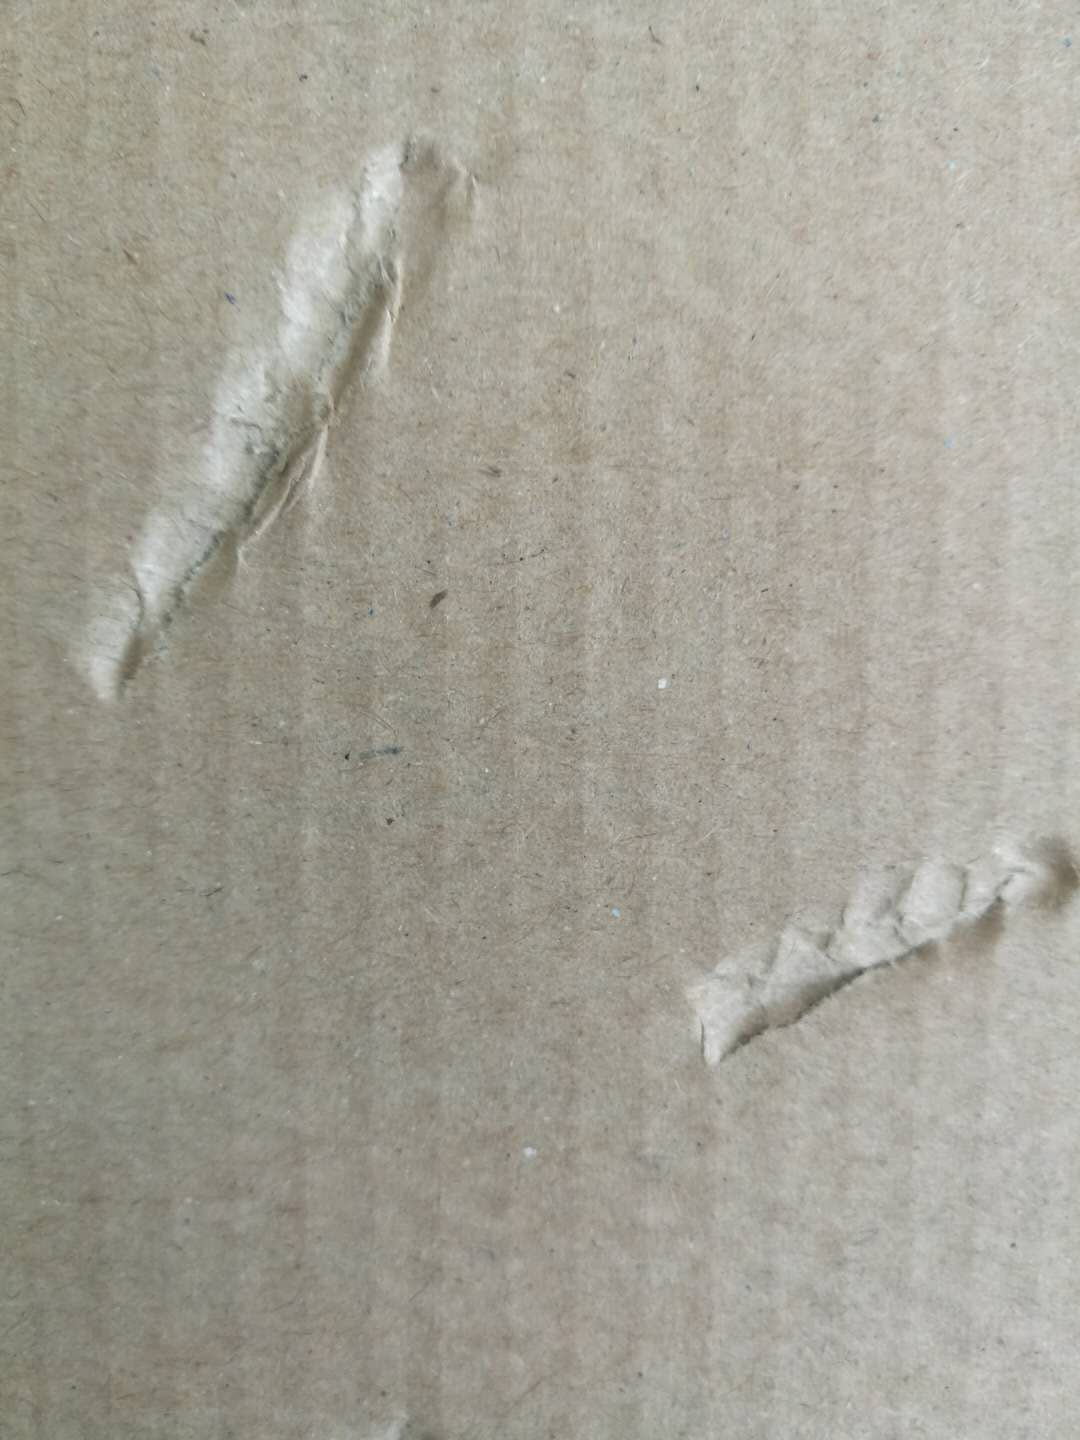defect: (39, 99, 539, 749), (649, 798, 1080, 1101)
